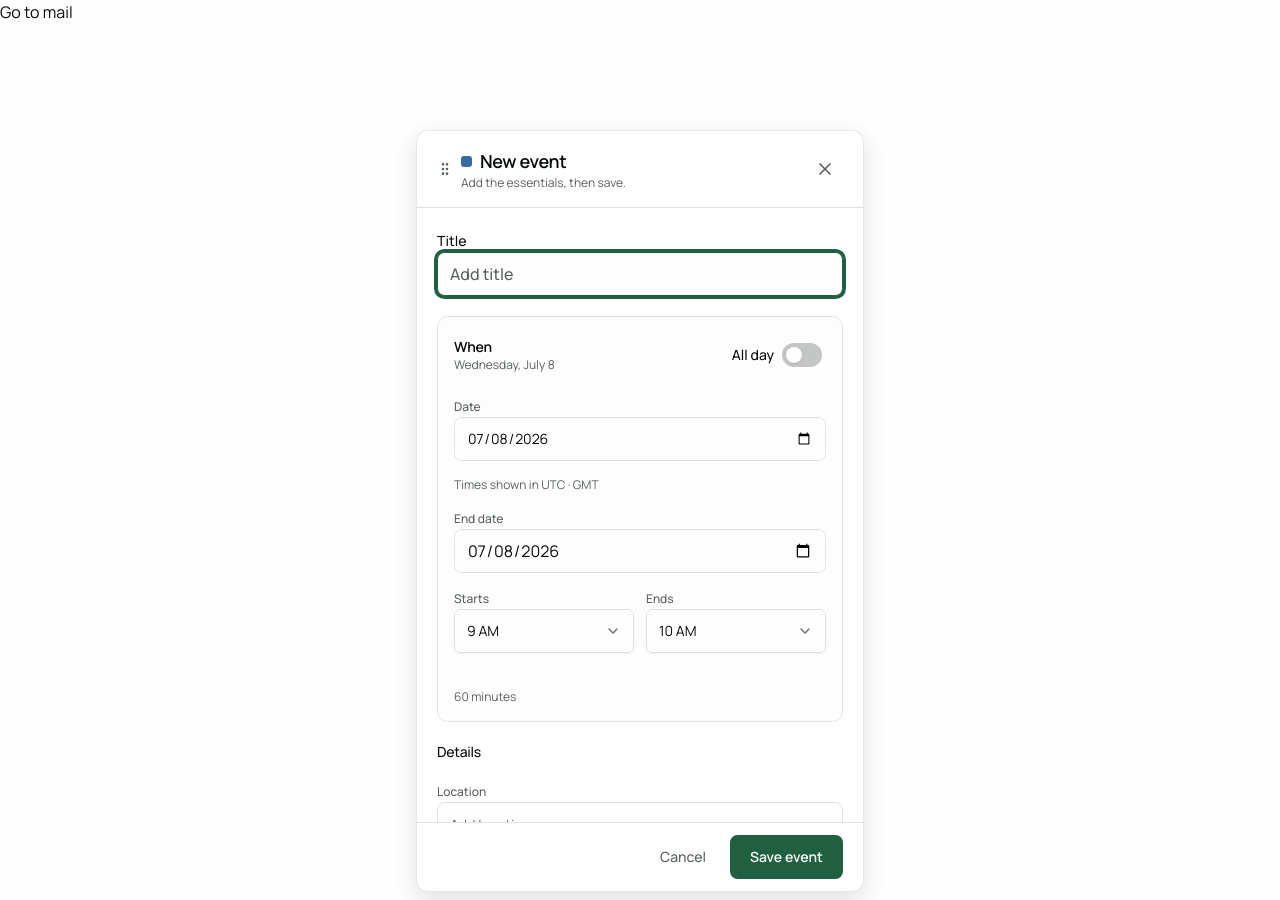
keeps the pending event save mounted when a route change is requested
This screenshot has width=1280, height=900.
Expected: the field labelled "Title" is shown, [437,252,843,296]
Click the button "Save event".
click(786, 857)  # box [730,835,843,879]
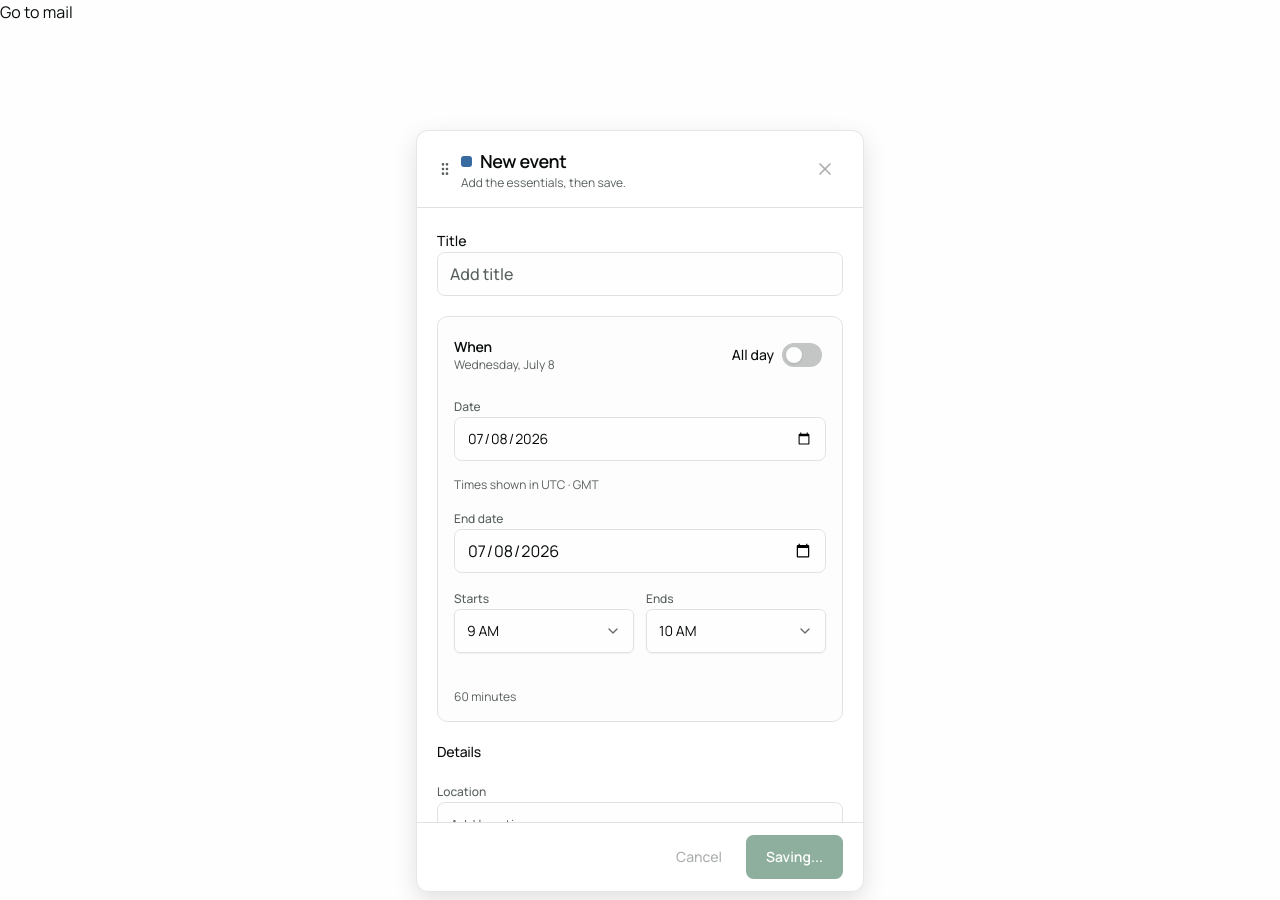
Result: the button "Saving..." is disabled at [746,835,843,879]
